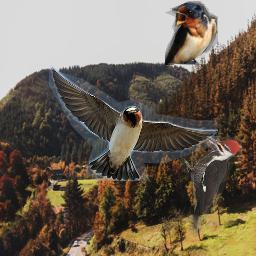Swallow: (49, 65, 218, 181), (165, 1, 218, 65)
Woodpecker: (180, 136, 242, 237)
